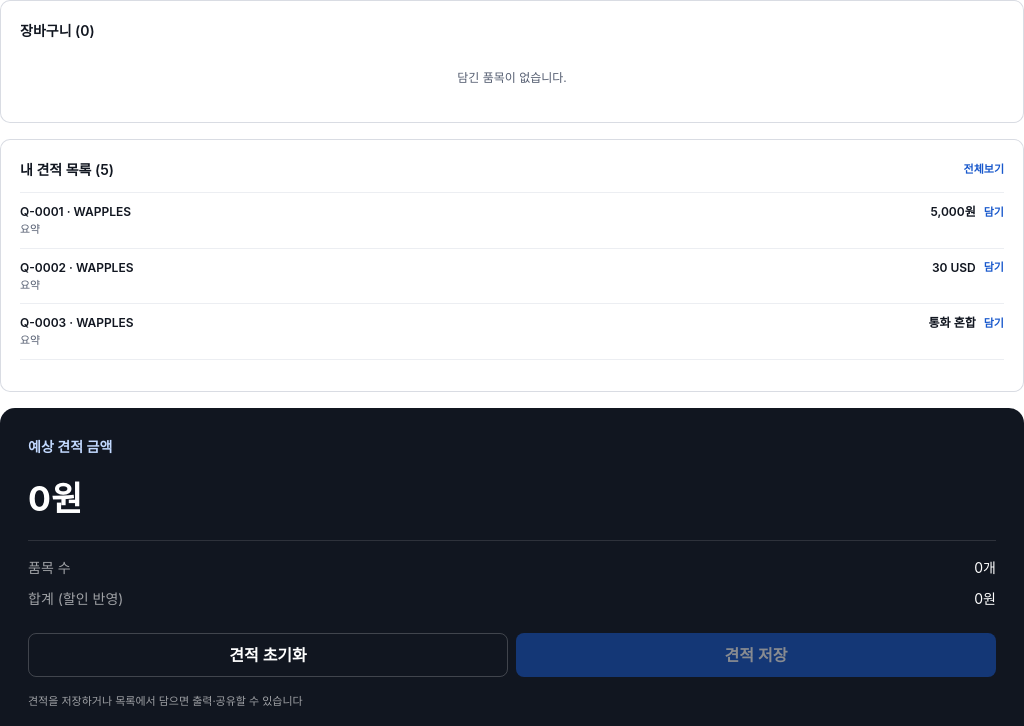
내 견적 목록 모달 — 표 조작으로 닫히지 않는다 (#32 스펙 §7) › 진짜 백드롭 클릭(백드롭에서 누르고 뗌)은 그대로 모달을 닫는다
Click the button "전체보기" at (984, 170), box [964, 161, 1004, 178]
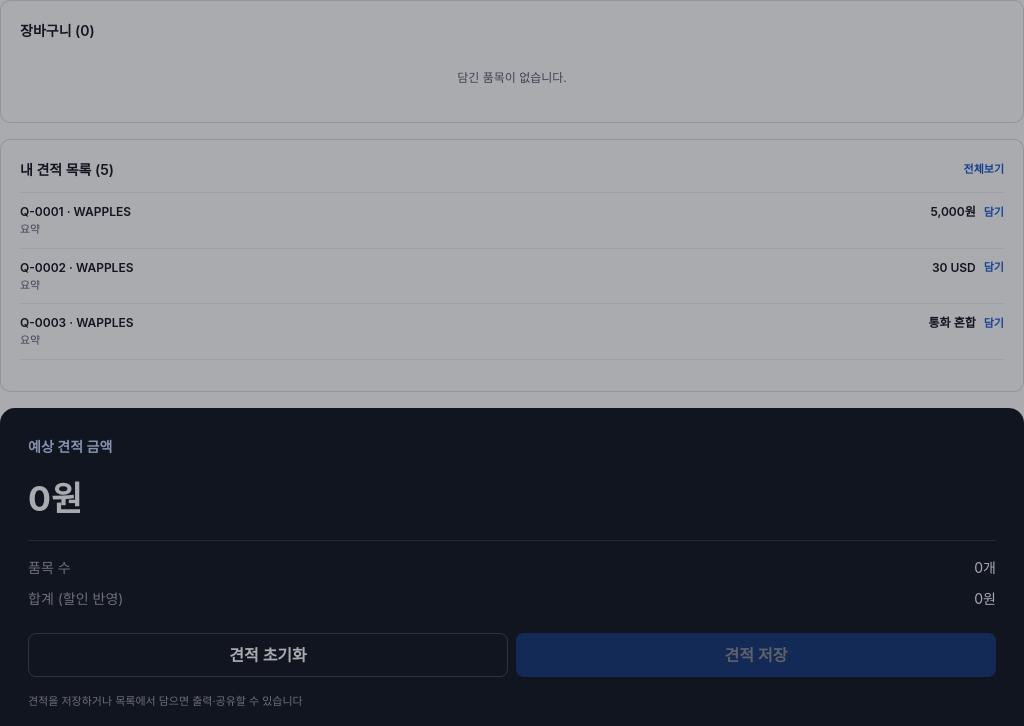
Click the dialog named "내 견적 목록" at (512, 384), box [82, 180, 942, 588]
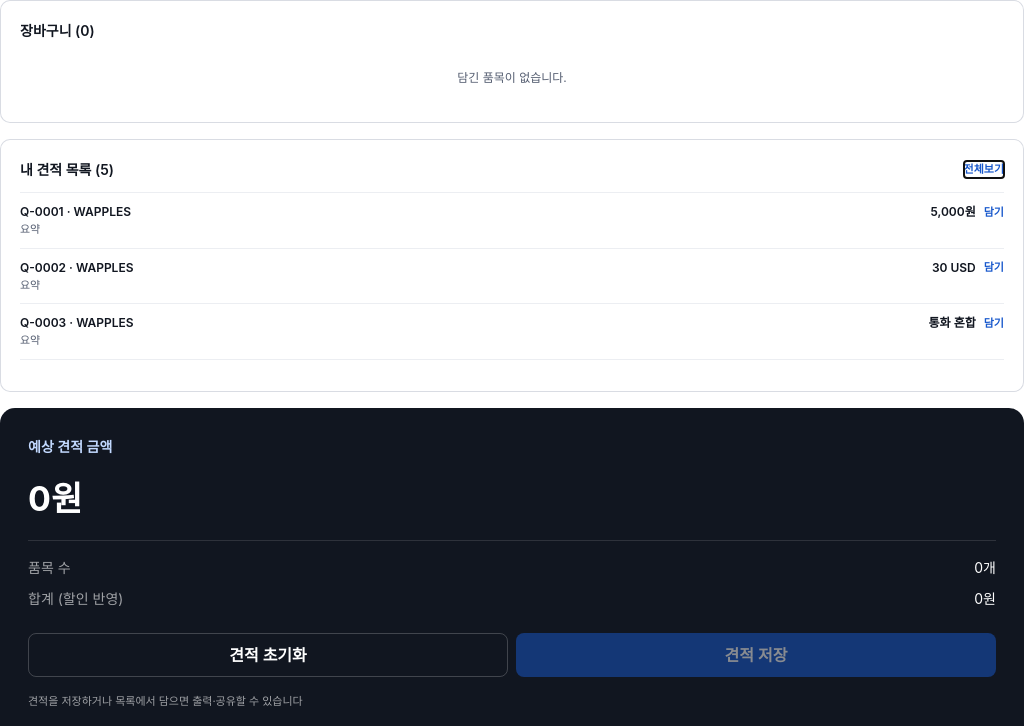
expect the dialog is gone: met
